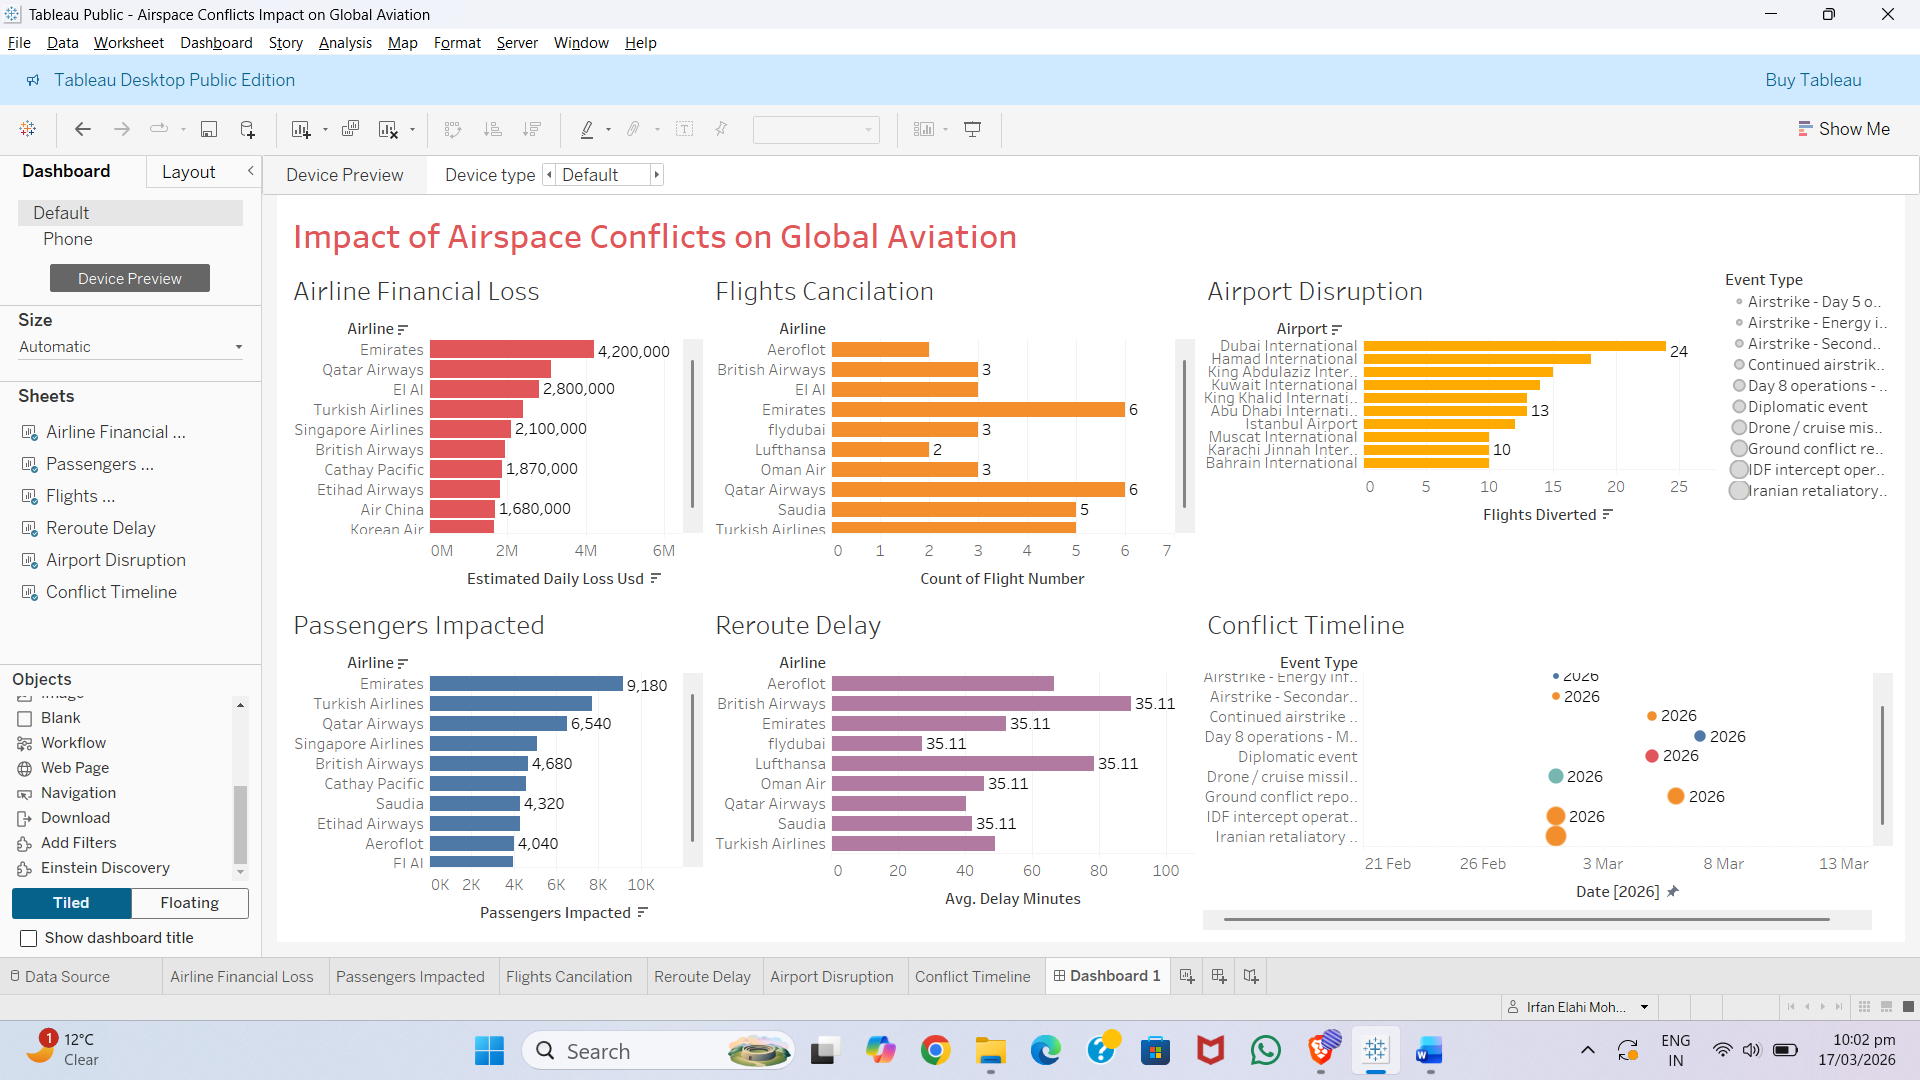

Layout of this report page (visuals, bound fields, positions):
{"tool":"tableau","page":{"name":"Dashboard 1","canvas":[1000,1000],"units":"permille","ordinal":0},"visuals":[{"type":"text","box":[4.9,10.7,990.2,82.4]},{"type":"worksheet","title":"Airline Financial Loss","mark":"Automatic","rows":["airline"],"cols":["estimated_daily_loss_usd"],"box":[4.9,93.1,259.2,448.1]},{"type":"worksheet","title":"Flights Cancilation","mark":"Automatic","rows":["airline"],"cols":["flight_number"],"box":[264.2,93.1,302.4,448.1]},{"type":"worksheet","title":"Airport Disruption","mark":"Automatic","rows":["airport"],"cols":["flights_diverted"],"box":[566.6,93.1,320.6,448.1]},{"type":"legend","title":"Conflict Timeline","param":"[federated.09uwq3z0d7yi72118k1kl04job8l].[none:event_type:nk]","box":[887.2,93.1,107.9,448.1]},{"type":"worksheet","title":"Passengers Impacted","mark":"Automatic","rows":["airline"],"cols":["passengers_impacted"],"box":[4.9,541.2,259.2,448.1]},{"type":"worksheet","title":"Reroute Delay","mark":"Automatic","rows":["airline"],"cols":["delay_minutes"],"box":[264.2,541.2,302.4,448.1]},{"type":"worksheet","title":"Conflict Timeline","mark":"Circle","rows":["event_type"],"cols":["date"],"box":[566.6,541.2,428.5,448.1]}]}

Visuals, with their boxes on the dashboard's canvas, which has no fixed pixel size, in thousandths of its width and height (x1, y1, x2, y2). These are canvas units, not pixel positions in the 1920x1080 screenshot, which may show the page scaled, cropped or inside an application window:
text: bbox(5, 11, 995, 93)
"Airline Financial Loss" worksheet: bbox(5, 93, 264, 541)
"Flights Cancilation" worksheet: bbox(264, 93, 567, 541)
"Airport Disruption" worksheet: bbox(567, 93, 887, 541)
"Conflict Timeline" legend: bbox(887, 93, 995, 541)
"Passengers Impacted" worksheet: bbox(5, 541, 264, 989)
"Reroute Delay" worksheet: bbox(264, 541, 567, 989)
"Conflict Timeline" worksheet (Circle marks): bbox(567, 541, 995, 989)
